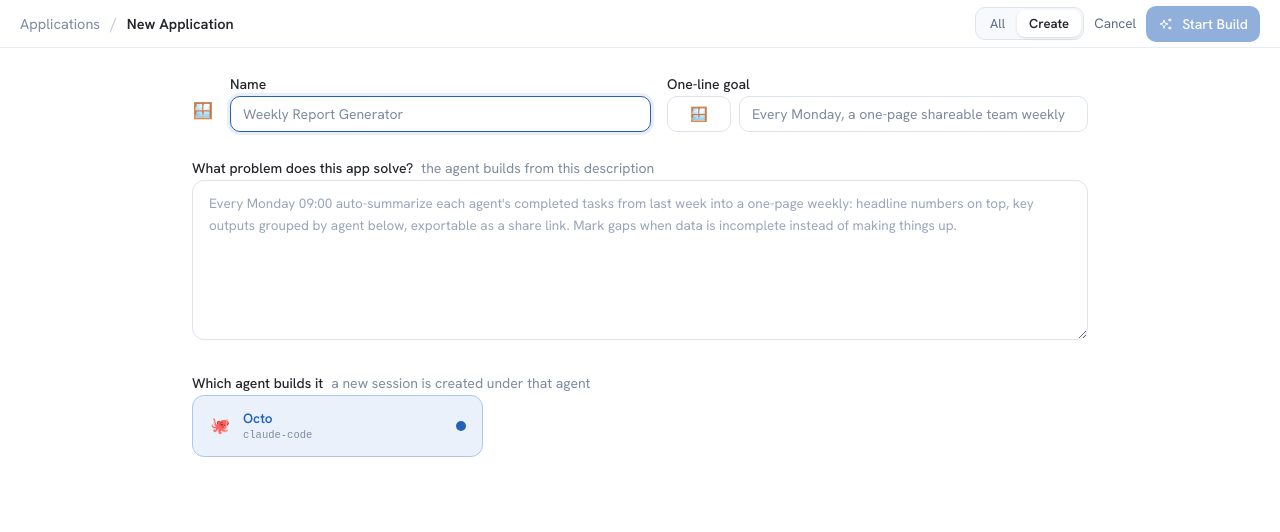
Test: ApplicationFormPage › surfaces a create failure
In the field labelled "Name": [440, 114] box top-left (230, 96), bottom-right (651, 132), type "x"
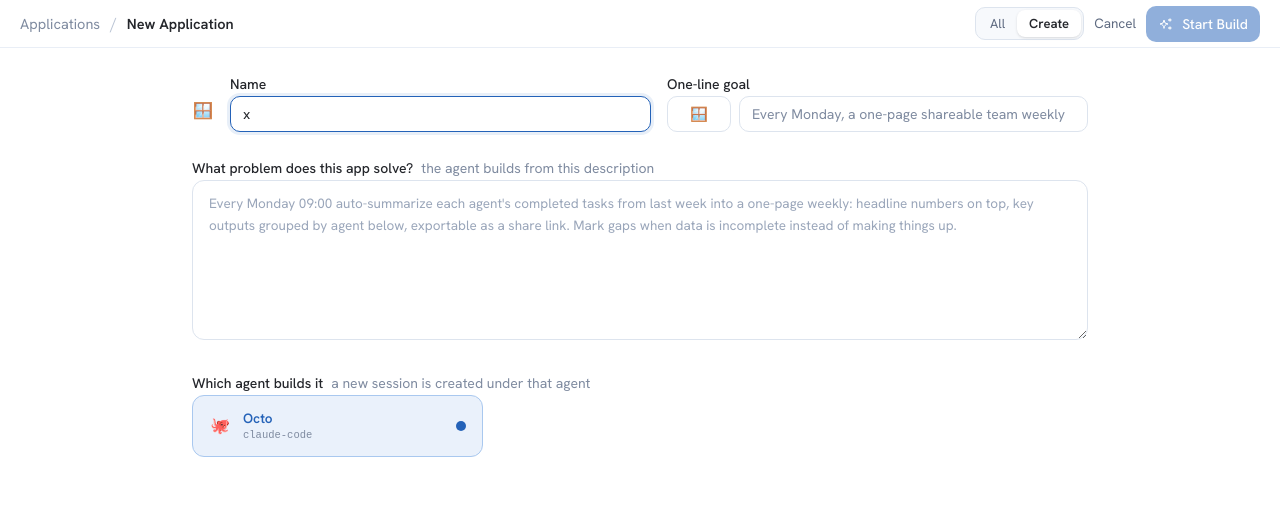
Replace the text in the text box labelled "What problem" with "d": [640, 260] box top-left (192, 180), bottom-right (1088, 340)
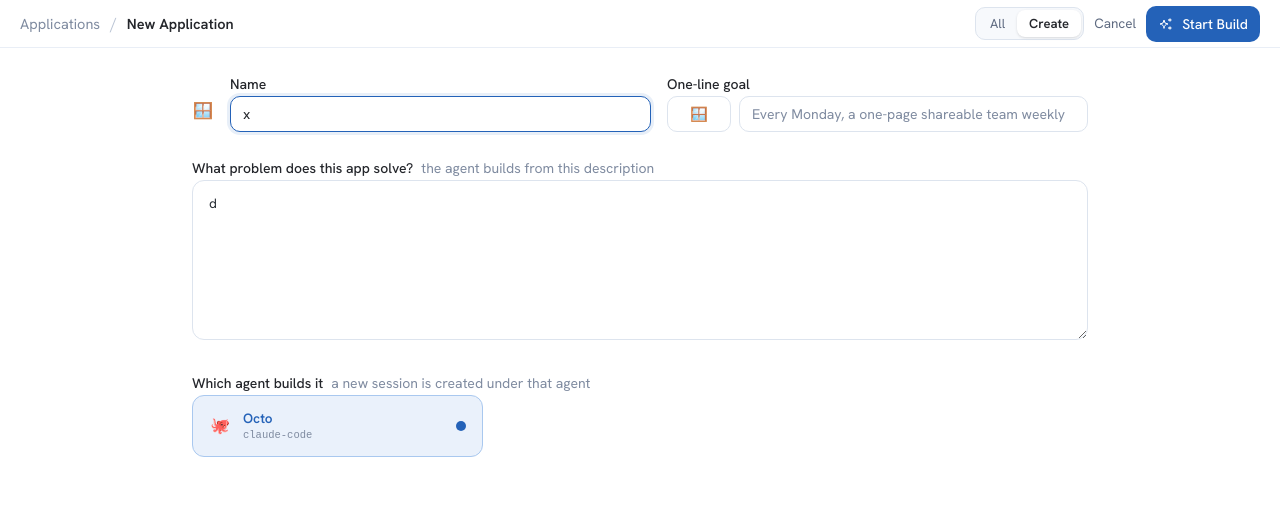
Click the button "Start Build": [1203, 24] box top-left (1146, 6), bottom-right (1260, 42)
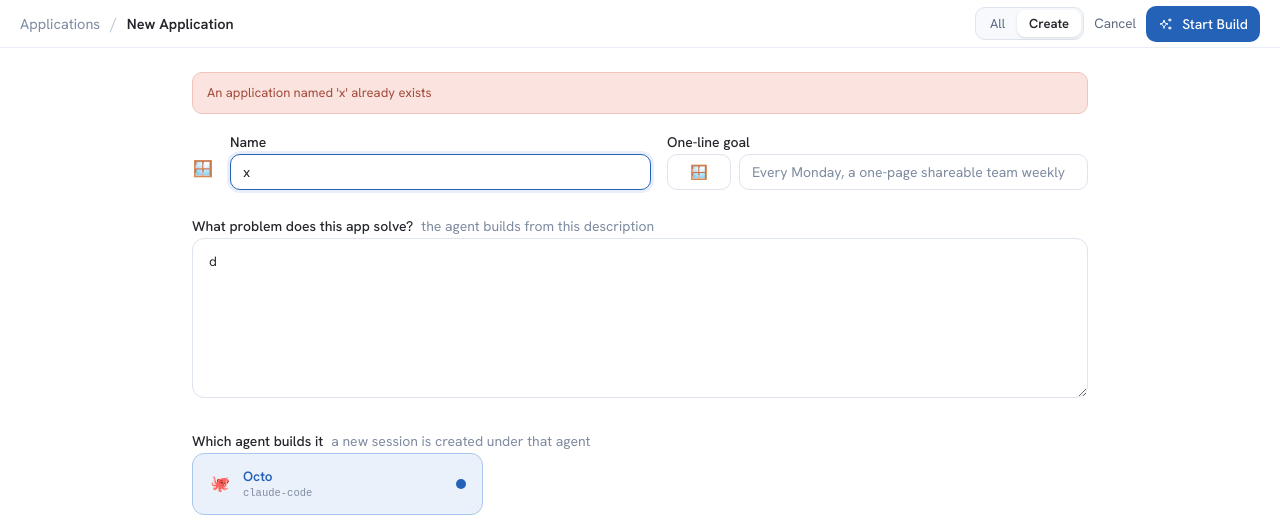
Expected: the text "An application named 'x' already exists" is shown, top-left (192, 72), bottom-right (1088, 114)
